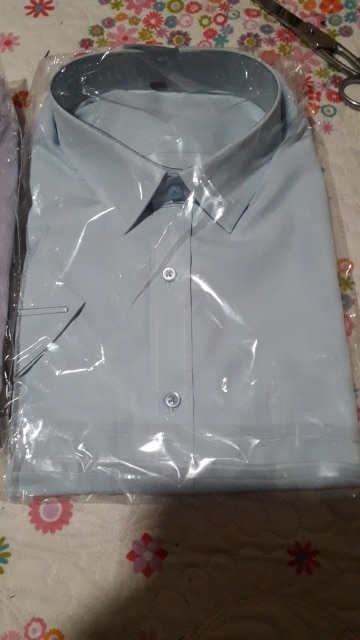shirts: (22, 50, 360, 491)
